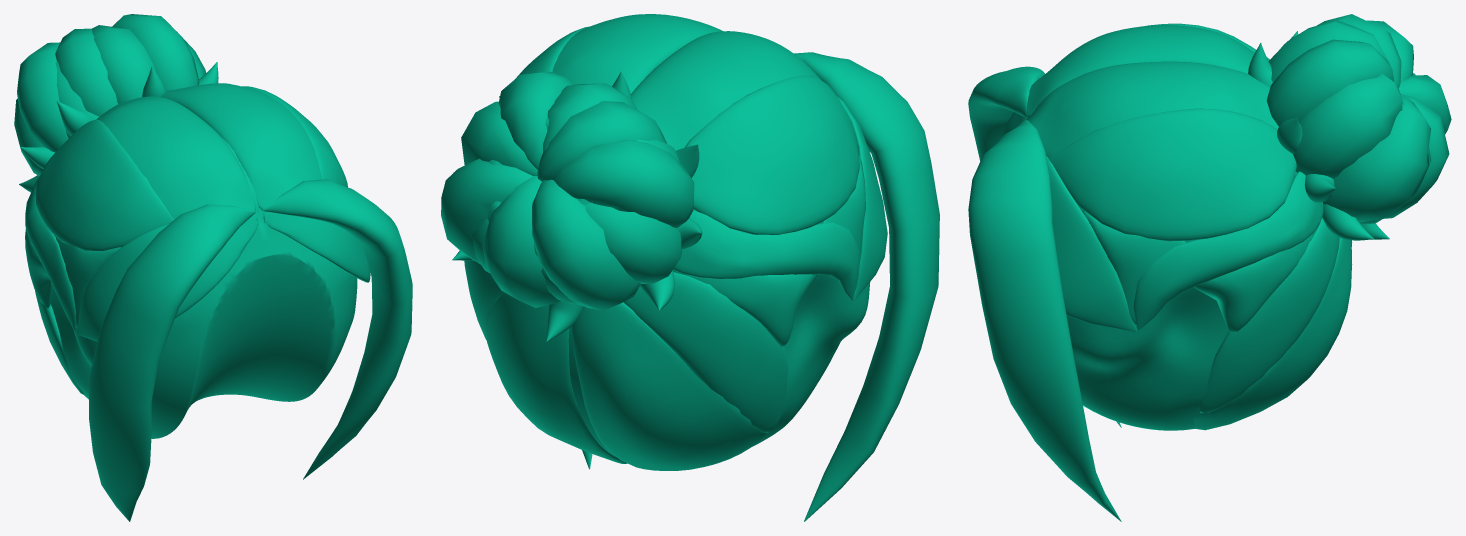
The model's file is Hair_Base_HighBun_020.fbx.
3 renders of one model, left to right at view 1: azimuth 30°, elevation 25°; view 2: azimuth 150°, elevation 25°; view 3: azimuth 270°, elevation 25°, orthographic. The views are drawn at different scales.
Parts seen in each view (by area): view 1: Hair_Base_20HighBun_20; view 2: Hair_Base_20HighBun_20; view 3: Hair_Base_20HighBun_20.
Boxes of the visible parts, left/top/right/bottom form: Hair_Base_20HighBun_20: left=14, top=14, right=412, bottom=521; Hair_Base_20HighBun_20: left=441, top=14, right=939, bottom=521; Hair_Base_20HighBun_20: left=968, top=14, right=1451, bottom=521.
Bounding box in the file's own units: 169 × 212 × 207.
